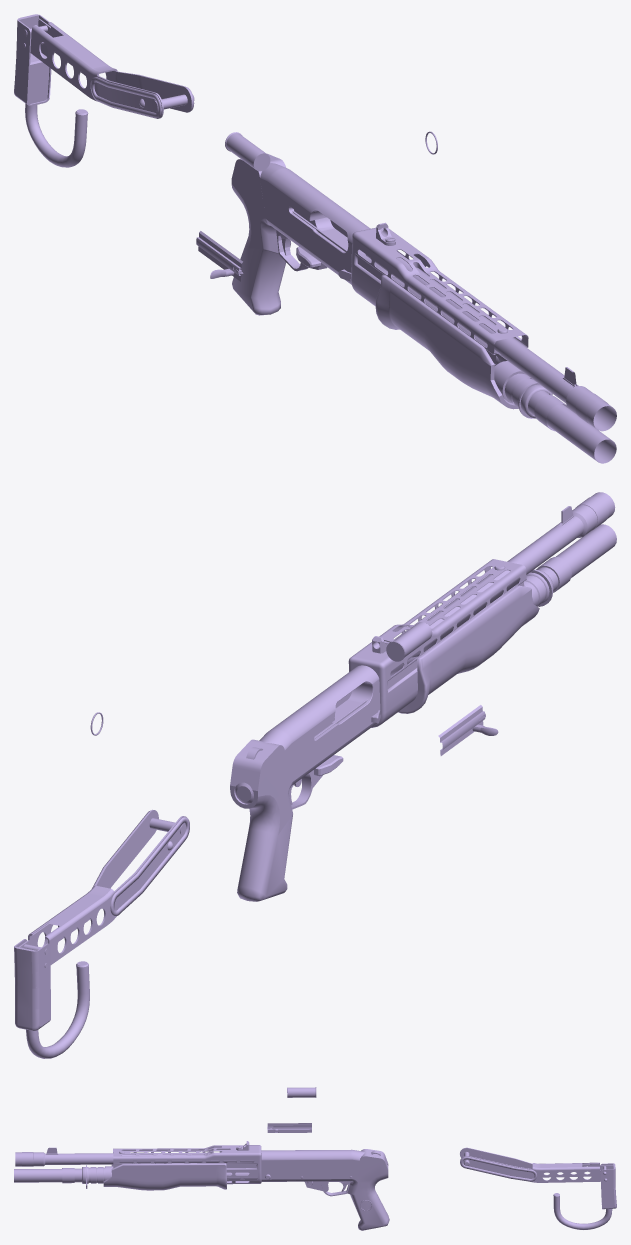
Rendered from v_spas.fbx.
The picture shows the model from 3 angles, top to bottom: view 1: azimuth 30°, elevation 25°; view 2: azimuth 150°, elevation 25°; view 3: azimuth 270°, elevation 25°; orthographic projection. The views are drawn at different scales.
Visible parts, largest first — view 1: mesh; view 2: mesh; view 3: mesh.
Part boxes in pixels (x1,y1,x2,y2): mesh: (14,14,616,463); mesh: (14,492,616,1058); mesh: (14,1087,616,1230).
Size of the model in its own units: 1423 by 1037 by 4602.
